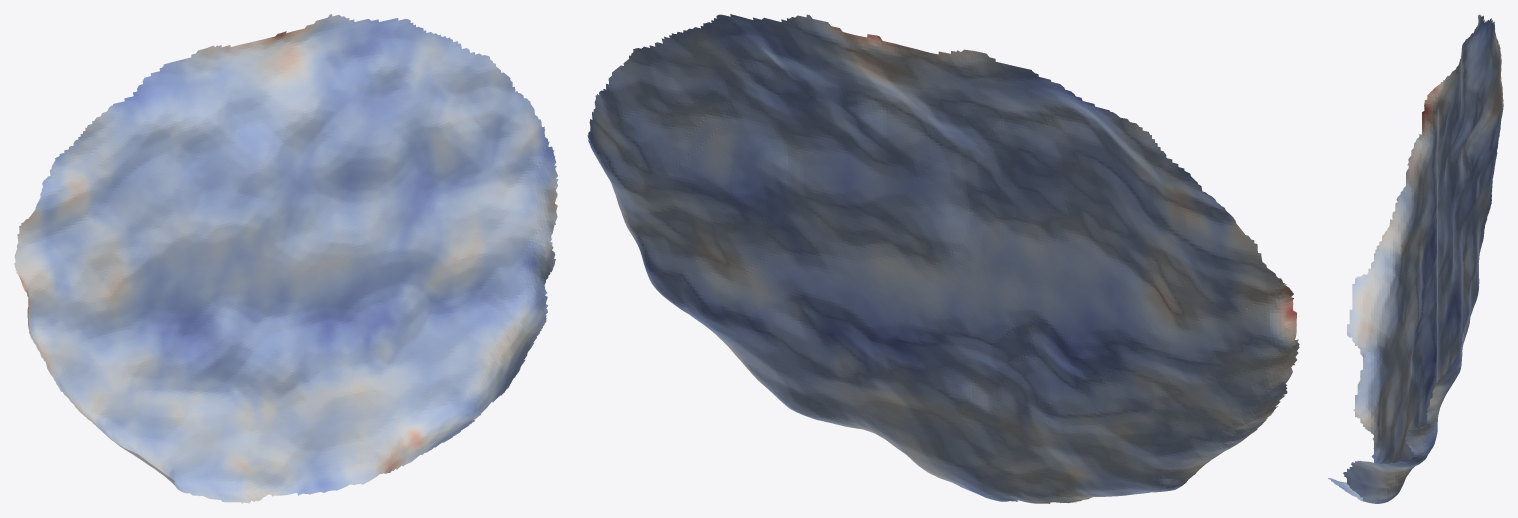
The picture shows the model from 3 angles, left to right: view 1: azimuth 30°, elevation 25°; view 2: azimuth 150°, elevation 25°; view 3: azimuth 270°, elevation 25°; orthographic projection. The views are drawn at different scales.
Visible parts, largest first — view 1: world; view 2: world; view 3: world.
Boxes of the visible parts, x1=… form: world: x1=14, y1=14, x2=558, y2=503; world: x1=587, y1=14, x2=1299, y2=503; world: x1=1328, y1=14, x2=1503, y2=503.
Size of the model in its own units: 47.44 by 34.29 by 13.34.
